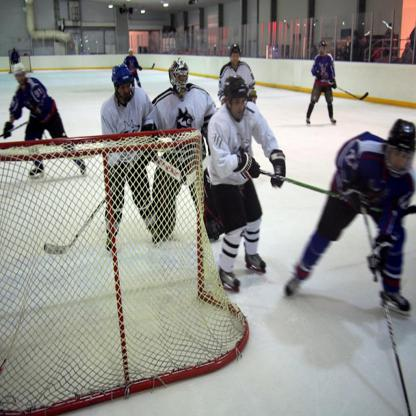face: (391, 150, 409, 172), (232, 92, 246, 119), (118, 84, 131, 102), (176, 74, 188, 92), (126, 77, 136, 96), (231, 52, 240, 66), (18, 74, 27, 84), (320, 46, 325, 55), (131, 52, 134, 57)
